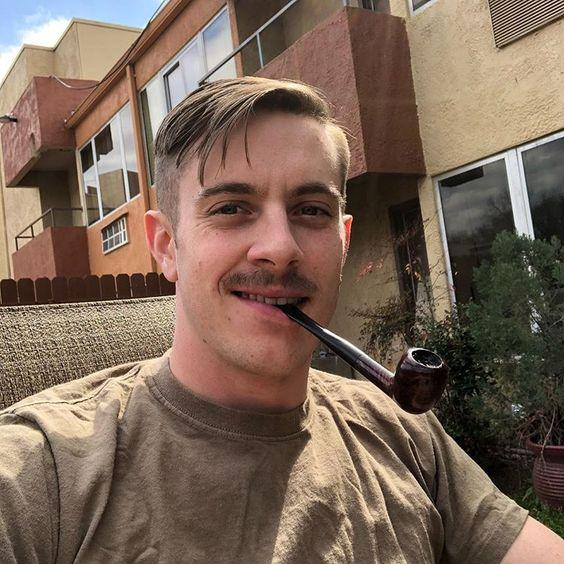trubka: (277, 304, 448, 413)
